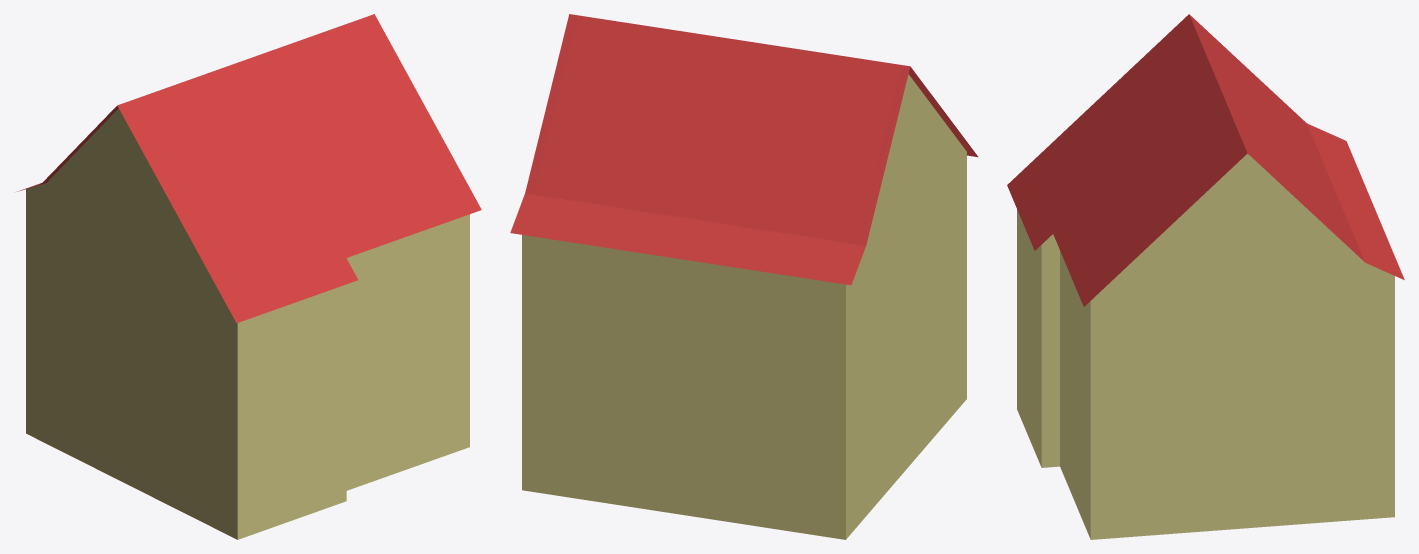
The picture shows the model from 3 angles, left to right: view 1: azimuth 30°, elevation 25°; view 2: azimuth 150°, elevation 25°; view 3: azimuth 270°, elevation 25°; orthographic projection. The views are drawn at different scales.
Size of the model in its own units: 11.41 by 11.74 by 12.32.
